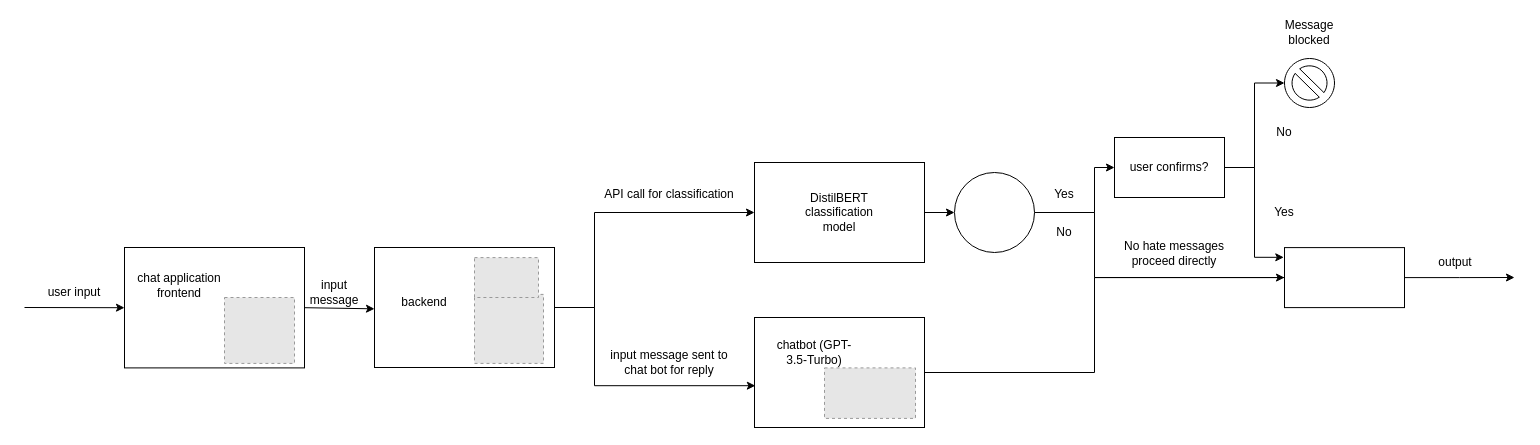
Some shapes in this 1540 by 445 pixel diagram are drawn without their labels. Grey dashed boxes stand in for pictures. Each missing label, with the centre of its shape:
"classification result + final reply" goes at point 1344,277.
"Hate?" goes at point 994,212.
